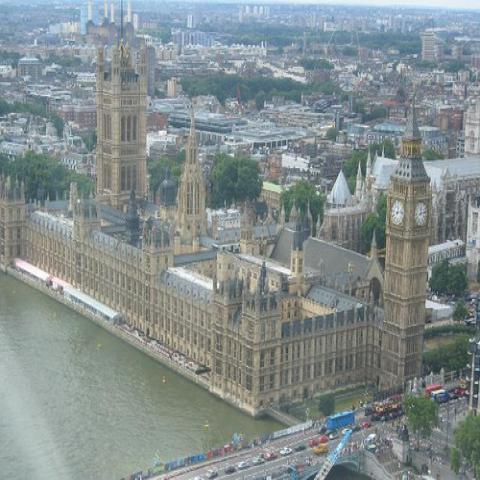bus: (326, 411, 355, 430), (430, 390, 450, 403), (425, 383, 442, 398)
car: (317, 421, 363, 435), (264, 452, 278, 460), (225, 465, 237, 474), (280, 447, 292, 456), (294, 443, 306, 452), (207, 469, 218, 478), (251, 458, 265, 465), (238, 461, 250, 469), (330, 432, 340, 440), (362, 421, 373, 428), (318, 435, 328, 442), (308, 440, 317, 447), (186, 476, 206, 479), (342, 429, 352, 434)
